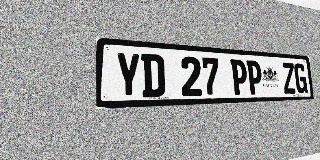2: (181, 56, 202, 96)
7: (201, 57, 220, 96)
D: (141, 53, 165, 97)
G: (294, 63, 308, 93)
P: (230, 59, 248, 95), (246, 60, 263, 95)
Y: (115, 52, 141, 98)
Z: (282, 62, 296, 94)
